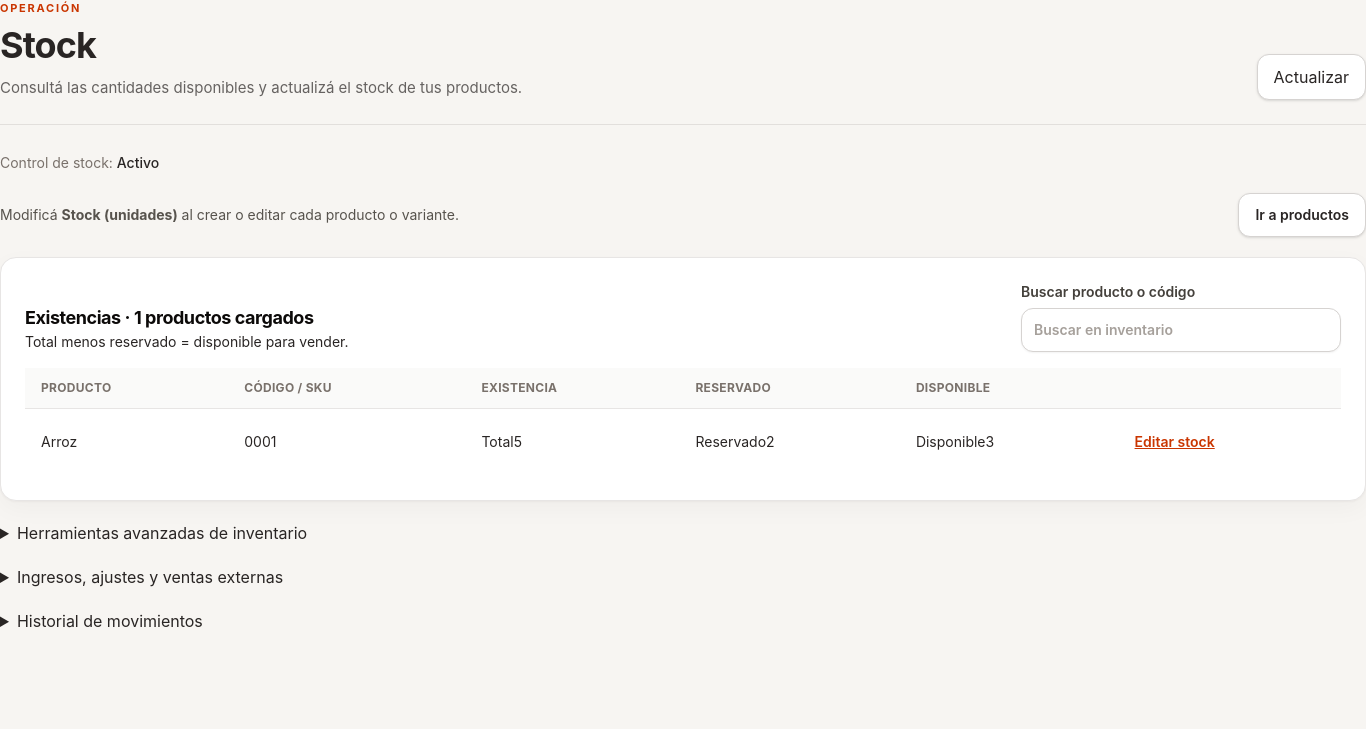
Scenario: inventory operation UI (backend contracts simulated) › retains an uncertain operation and retries the same payload and UUID
Check: the text "Arroz" is shown, box [25,408,228,476]
Click the heading "Ingresos, ajustes y ventas externas". click: [150, 577]
box: [17,567,283,587]
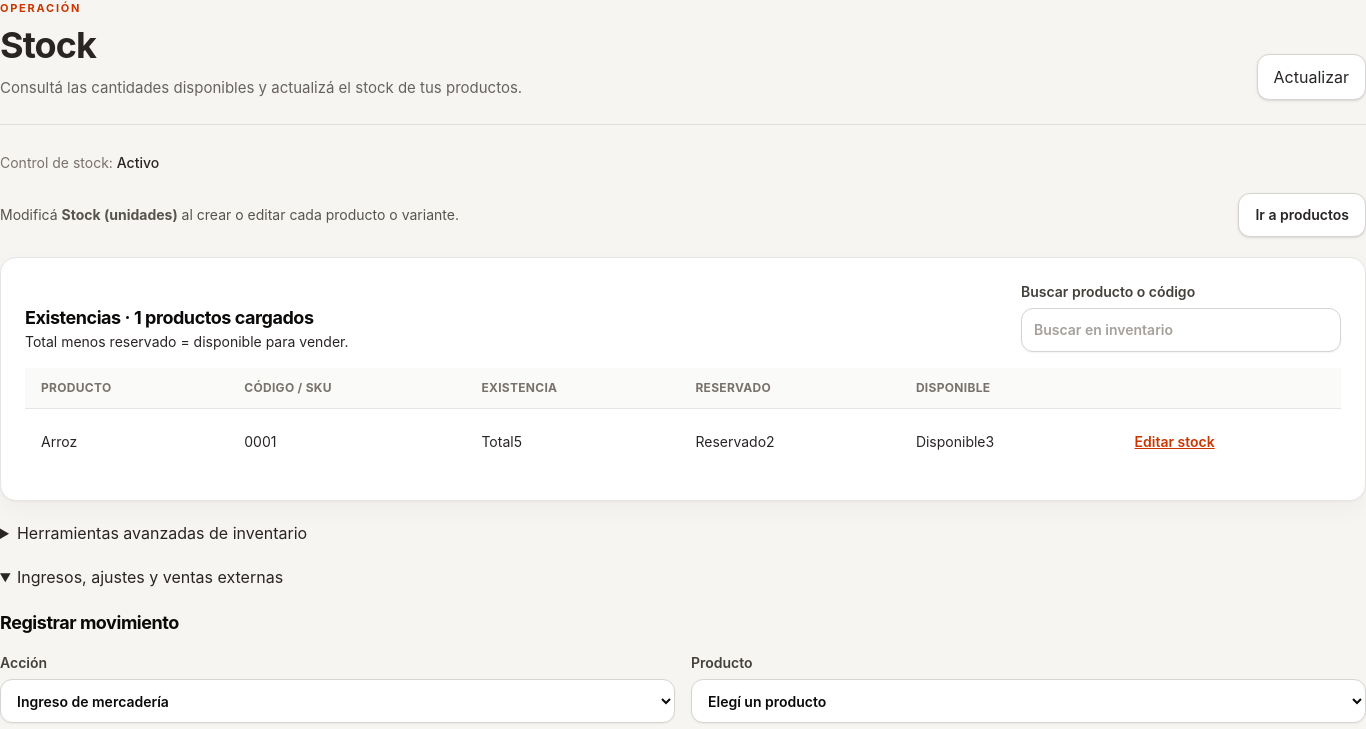
Select "Arroz · 0001" in the dropdown labelled "Producto". click: [1028, 701]
box: [691,679,1365,723]
(page scrolled)
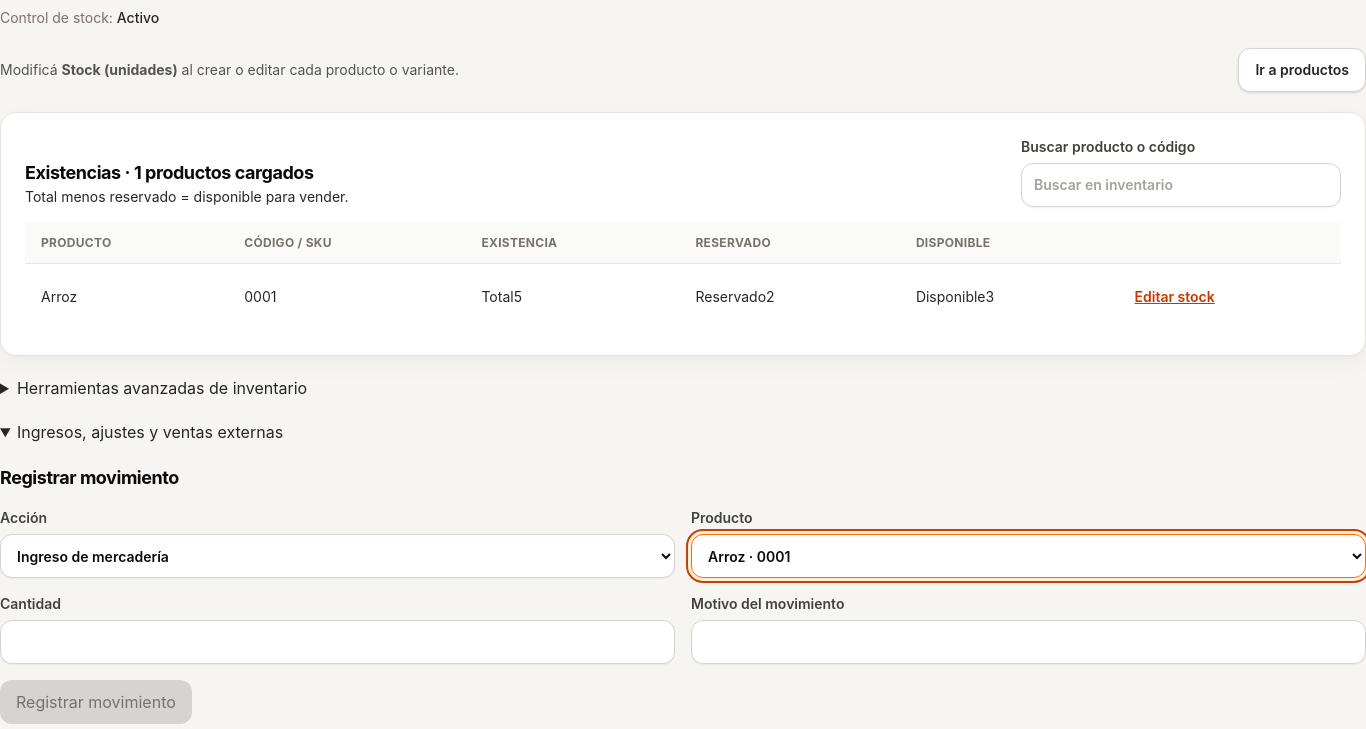
Type "3" into the field labelled "Cantidad". click: [338, 642]
box: [0,620,675,664]
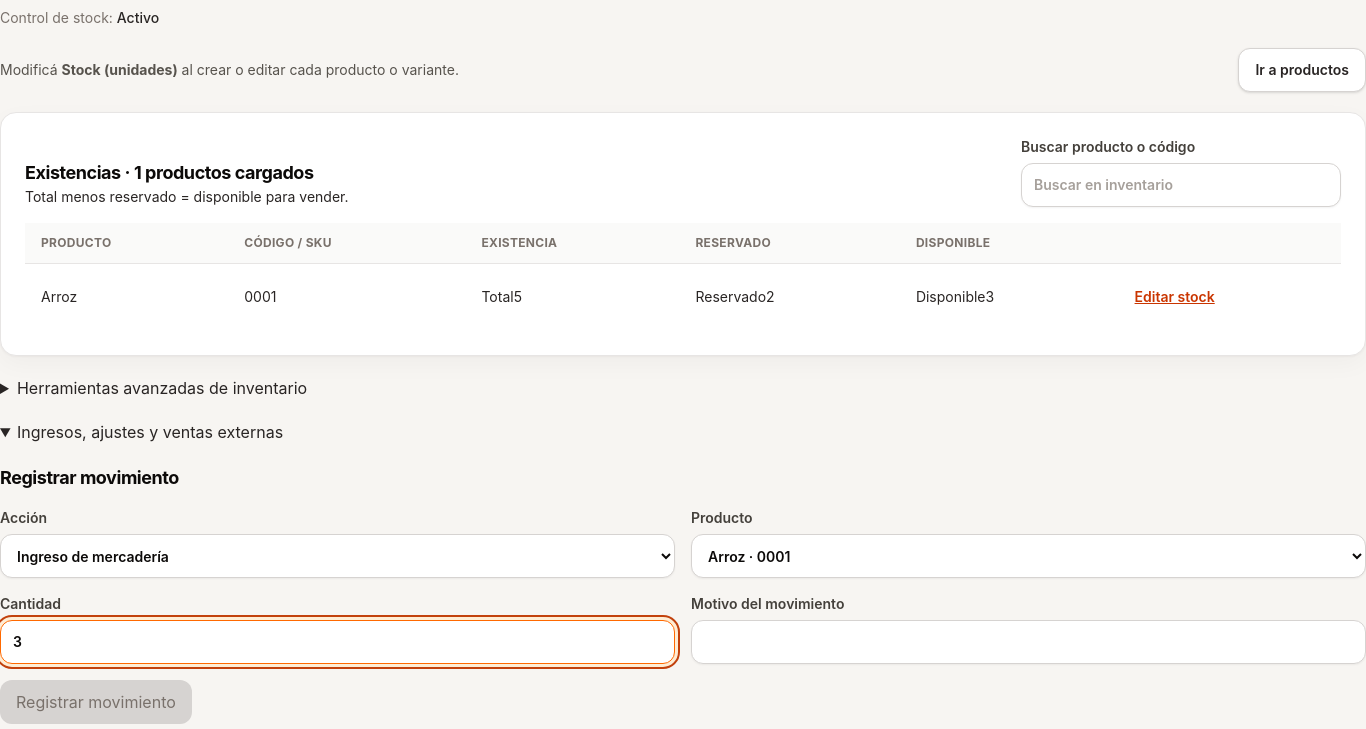
Type "Ingreso proveedor" into the field labelled "Motivo del movimiento". click: [1028, 642]
box: [691,620,1365,664]
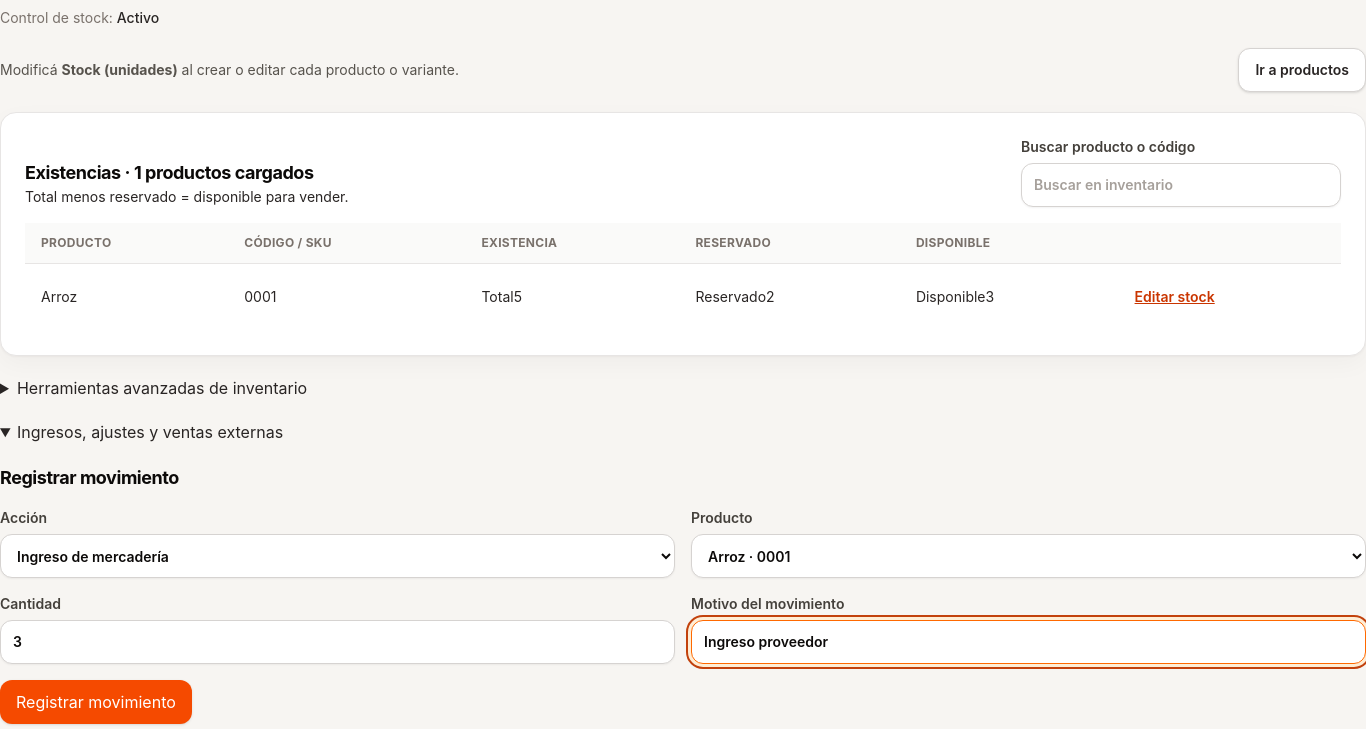
Click the button "Registrar movimiento". click: [96, 702]
box: [0,680,192,724]
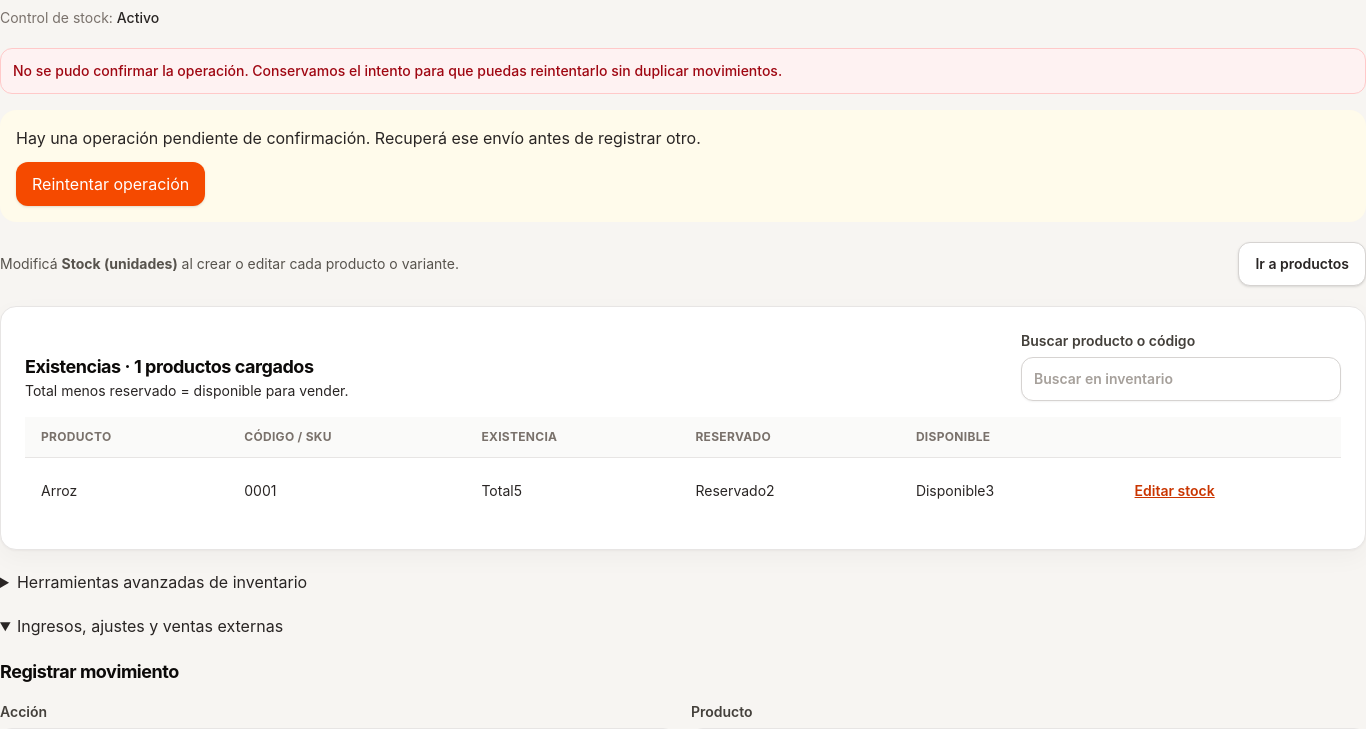
Click the button "Reintentar operación". click: [111, 184]
box: [16,162,205,206]
(page scrolled)
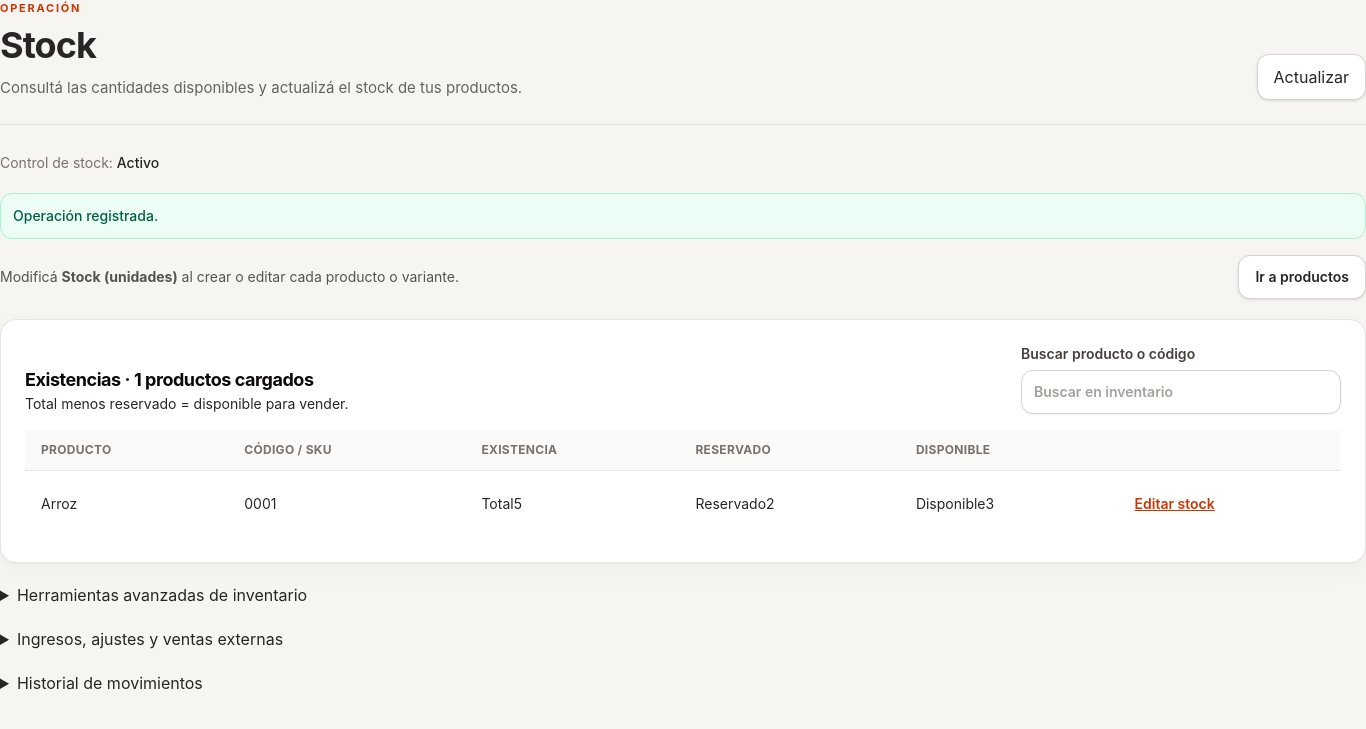
Check: the text "Operación registrada." is shown, box [0,192,1365,238]
